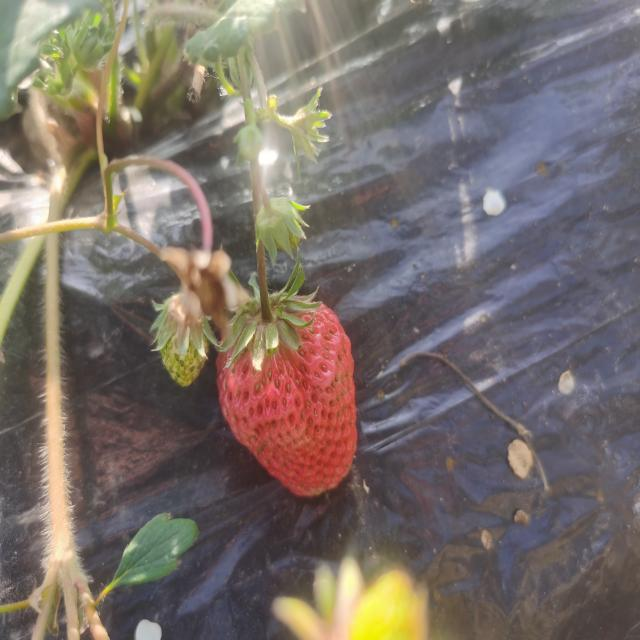stem: (257, 256, 274, 322)
strawberry: (216, 295, 357, 497)
